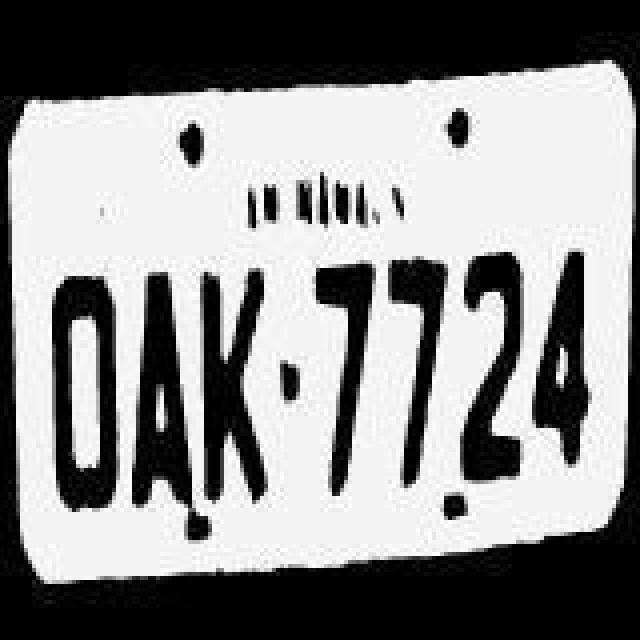2: (450, 240, 526, 488)
4: (522, 240, 598, 480)
7: (304, 252, 384, 500), (380, 250, 452, 494)
A: (124, 264, 196, 504)
K: (194, 262, 270, 506)
O: (42, 262, 126, 522)
